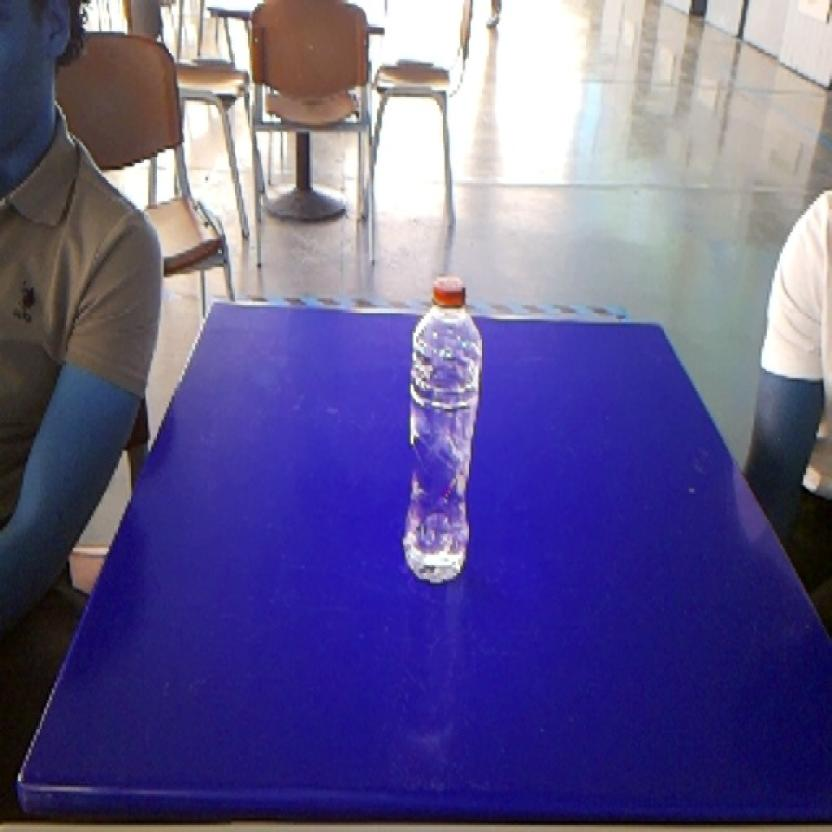no_label: (397, 268, 487, 598)
